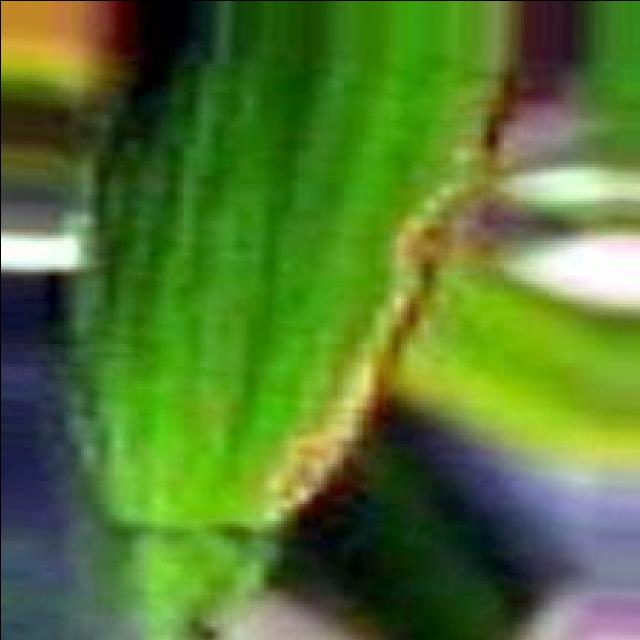Unhealthy: (263, 143, 465, 511)
